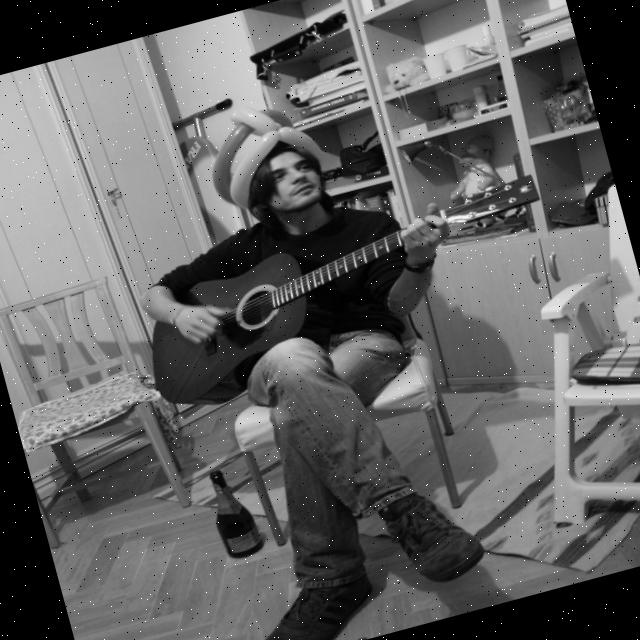guitar: (124, 174, 570, 420)
